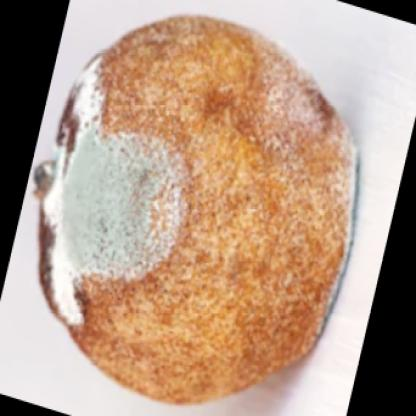rotten: (39, 14, 358, 401)
